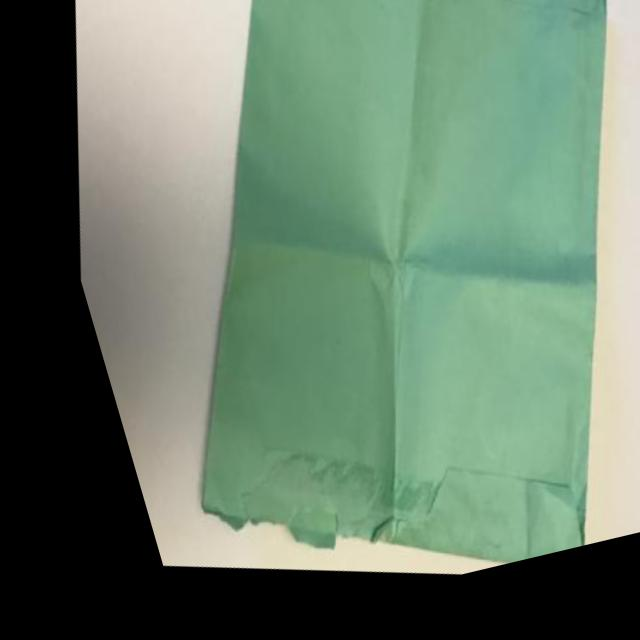paper: (38, 0, 640, 633)
